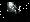person: (8, 4, 15, 17), (14, 5, 20, 17)
